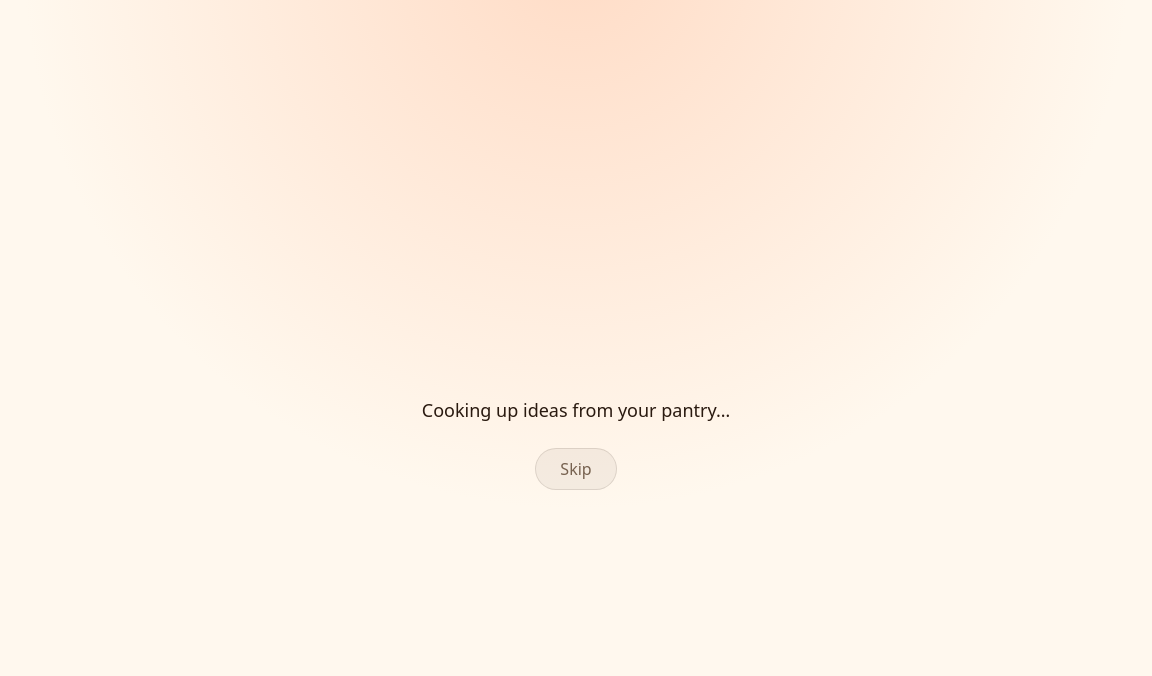
Test: the end of the deck sums up the saves and lists what to buy
Expected: the text "Cooking up ideas from your pantry…" is shown, [422,396,730,424]
Click the button "Skip": (576, 468) [535,448,617,490]
(page scrolled)
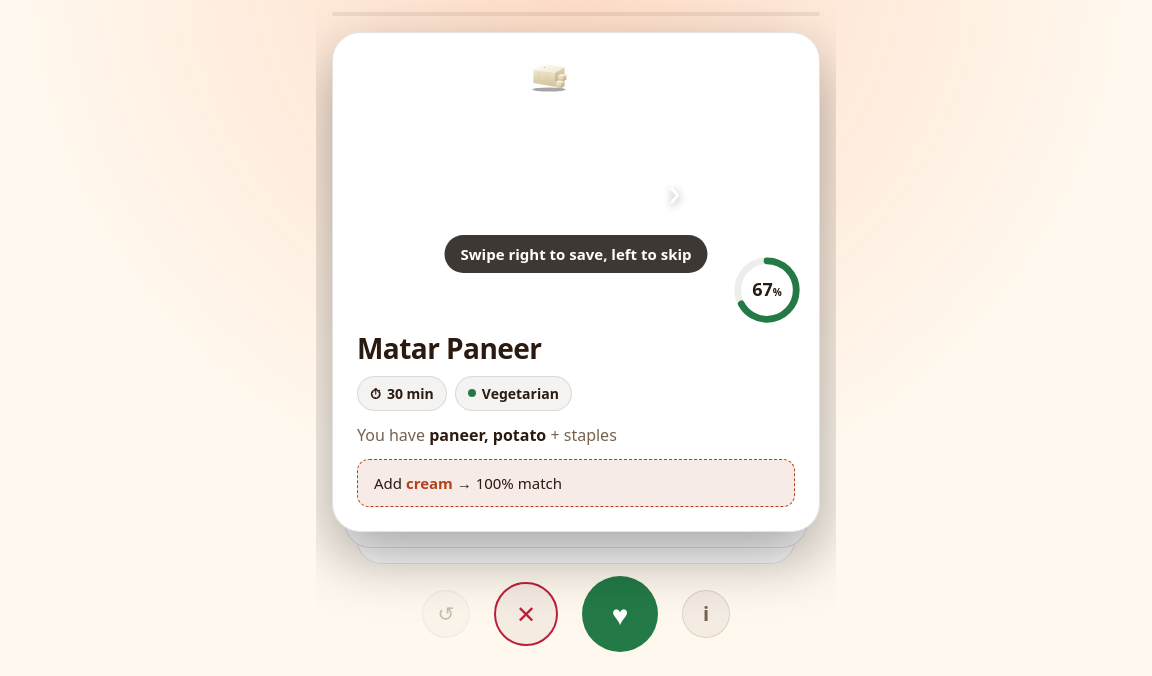
Now the text "Cooking up ideas" is gone
Click the button named "Save Matar Paneer": (620, 614) [582,576,658,652]
(page scrolled)
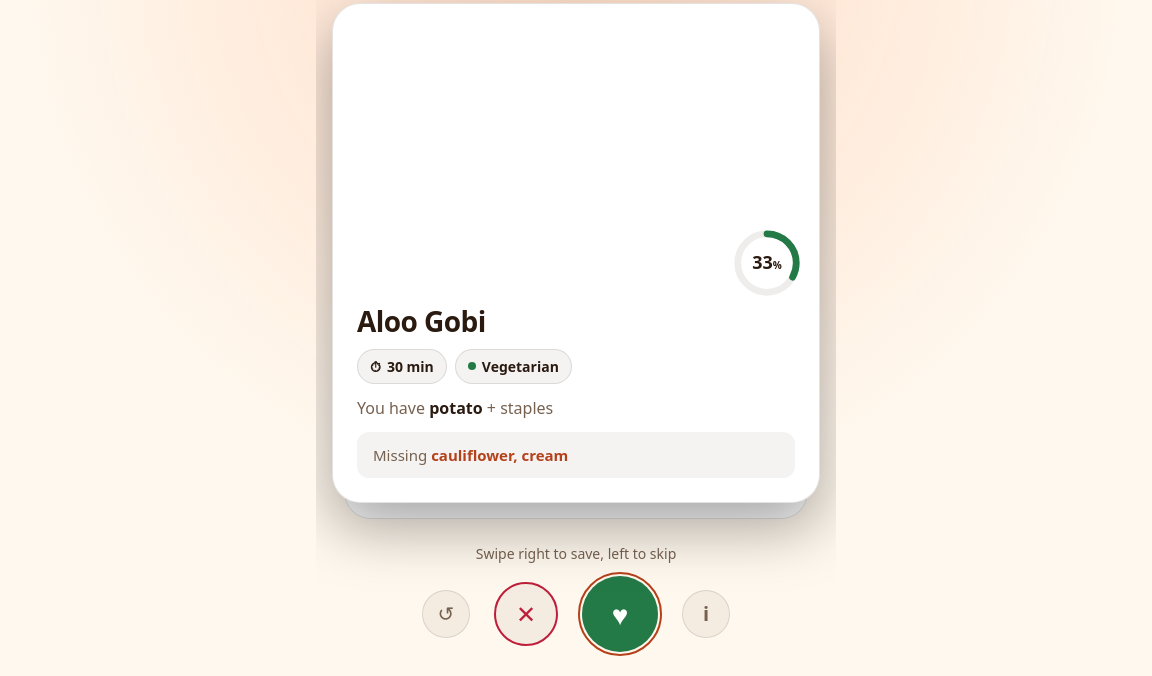
Click the button named "Save Aloo Gobi": (620, 614) [582,576,658,652]
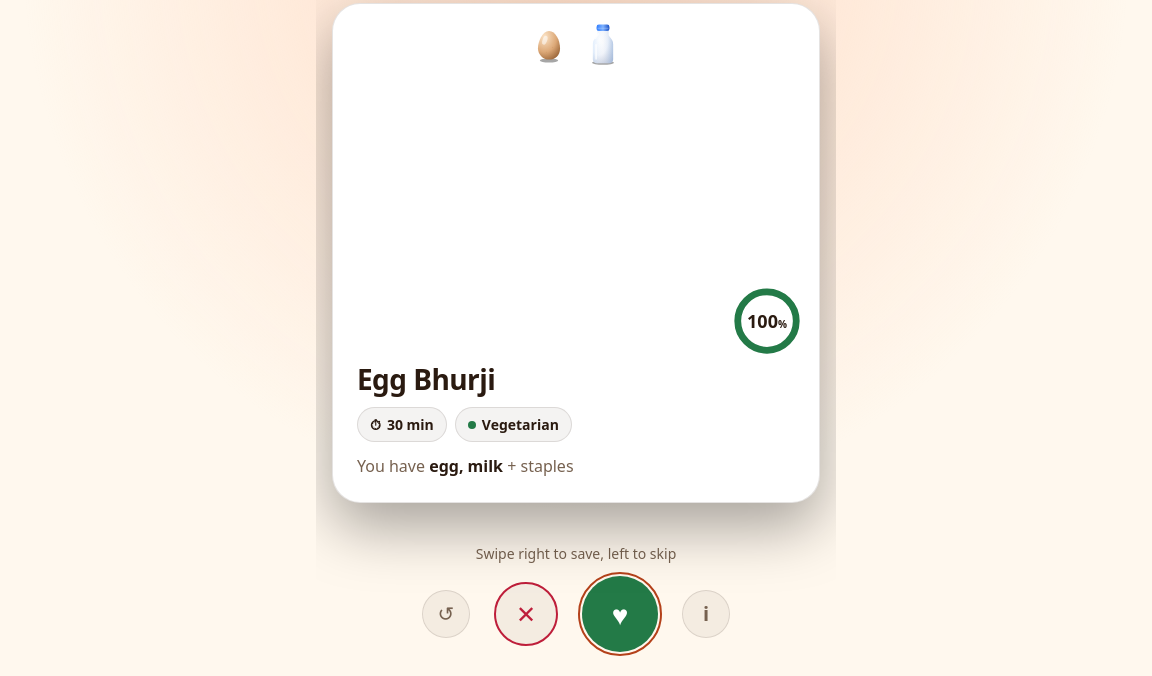
Click the button named "Skip Egg Bhurji": (526, 614) [494,582,558,646]
(page scrolled)
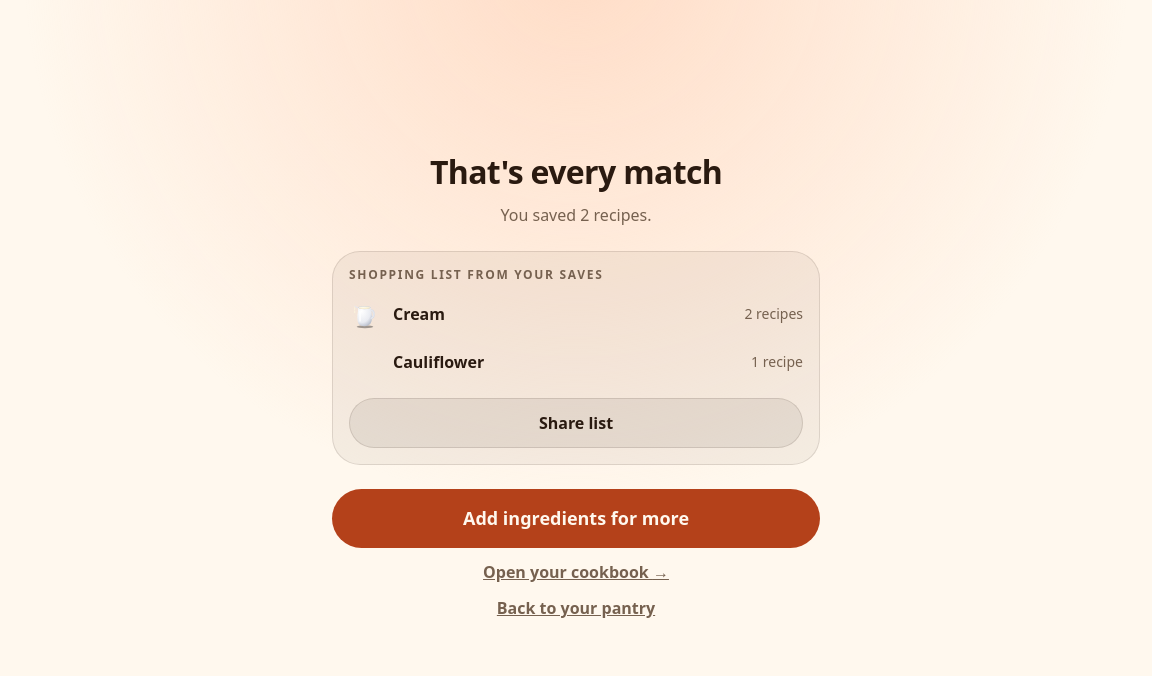
Now the heading "That's every match" is shown, box [430,154,722,191]
Now the text "You saved 2 recipes." is shown, box [500,203,652,227]
Now the list items read "Cream2 recipes", "Cauliflower1 recipe", in this order, box [349,290,803,338]; [349,338,803,386]
